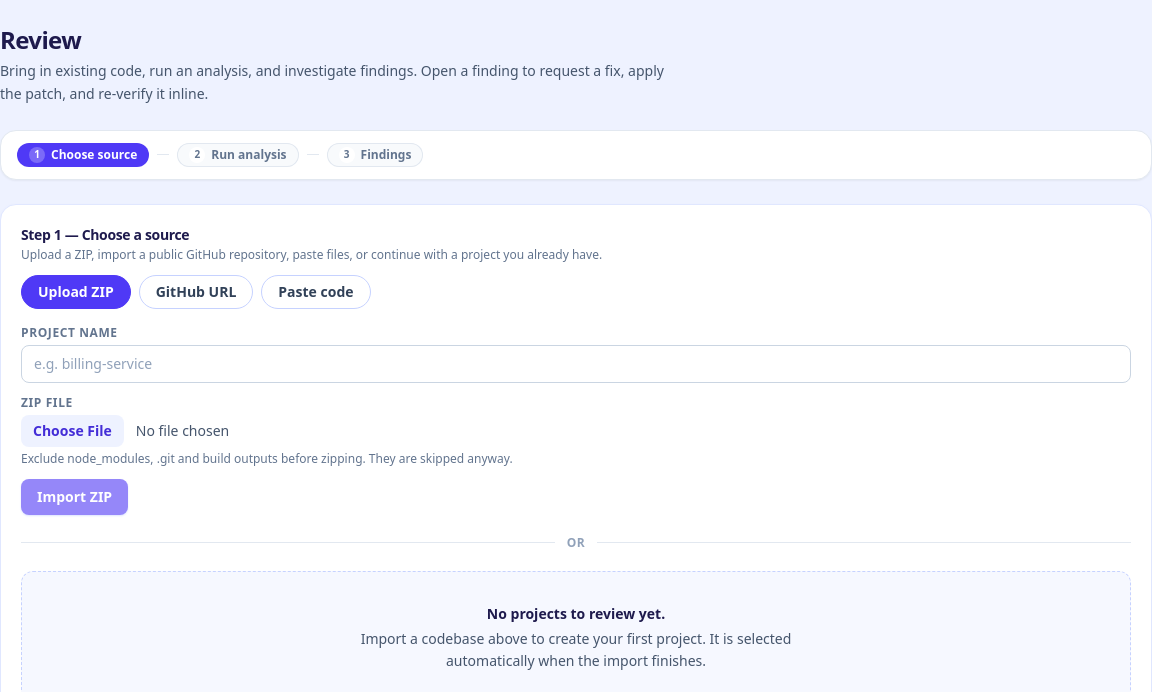
Test: ReviewPage › imports a GitHub project and moves straight to the analysis step
expect the text "No projects to review yet." is shown: met, box 487,604 -> 665,622
Click the tab "GitHub URL": (196, 292) 139,274 -> 253,308
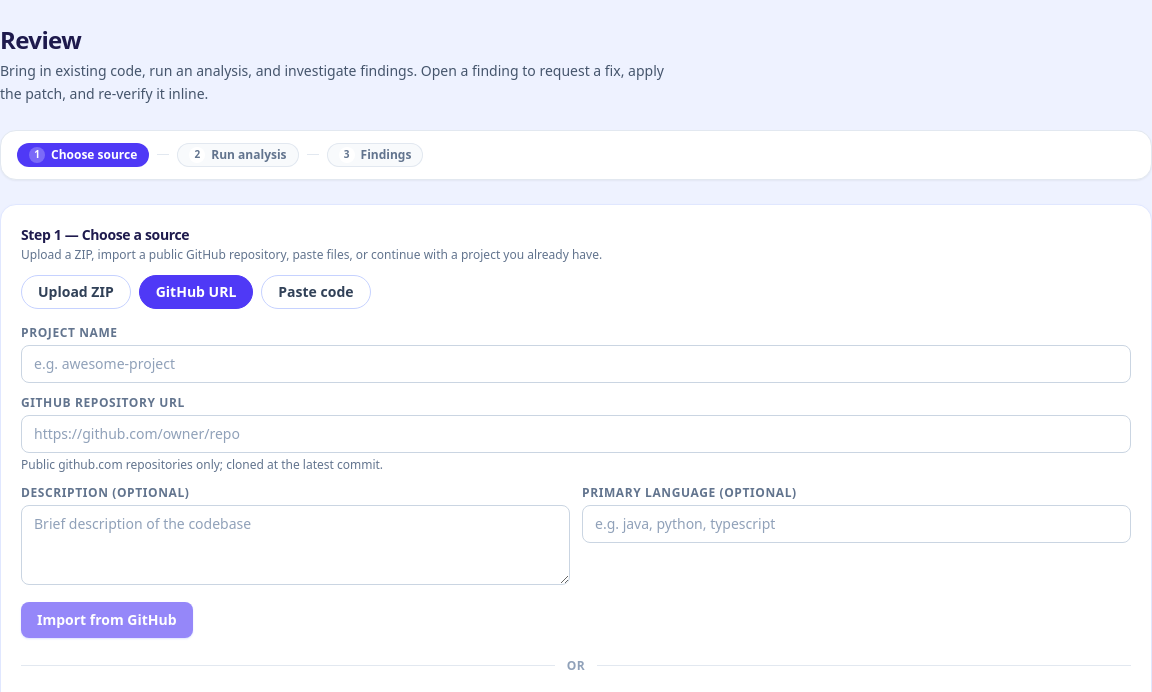
In the field named "GitHub project name": (576, 364) 21,344 -> 1131,382, type "imported"
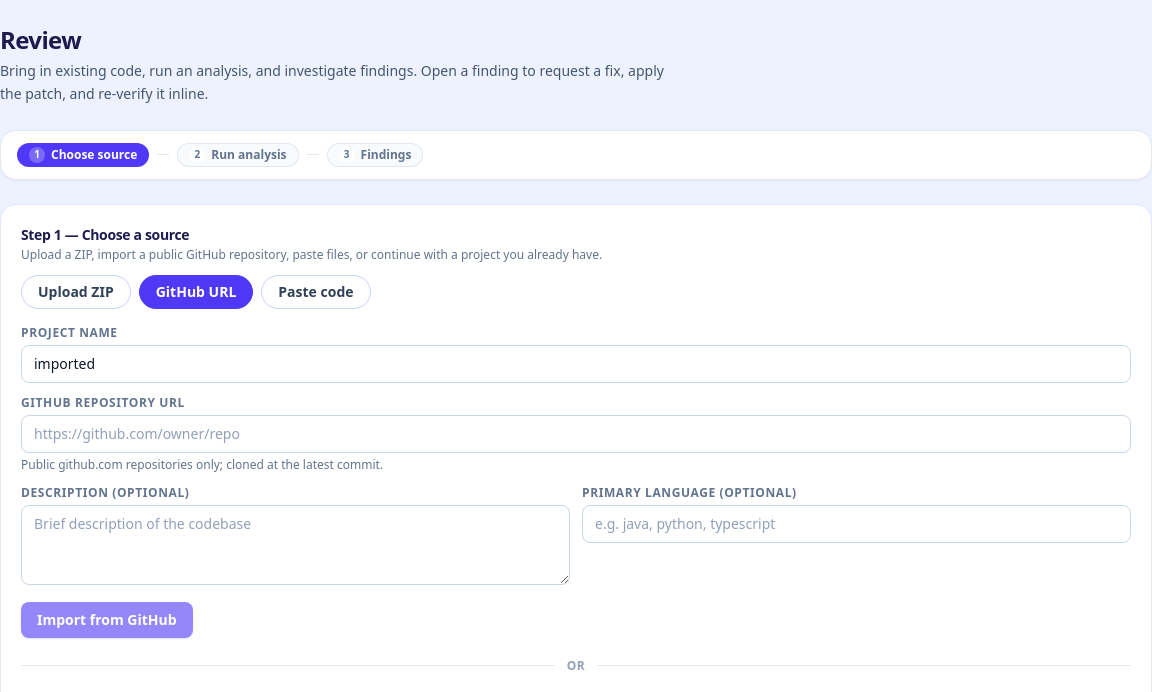
In the field named "GitHub URL": (576, 434) 21,414 -> 1131,452, type "https://github.com/acme/imported"
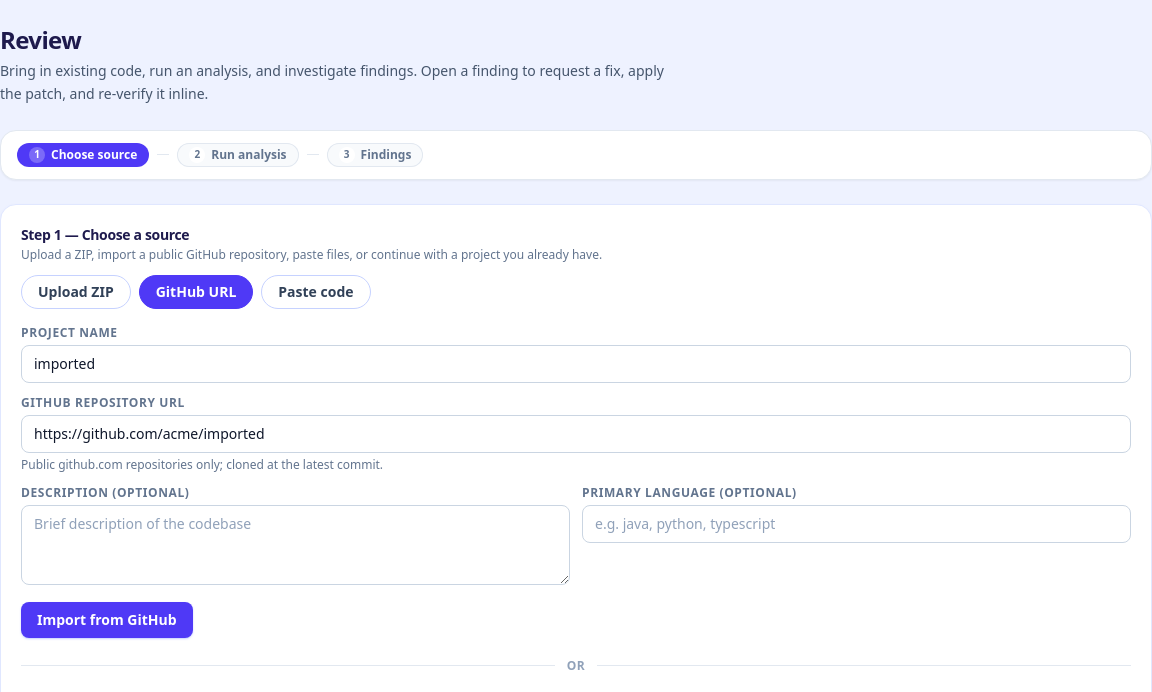
Click the button "Import from GitHub": (107, 620) 21,602 -> 193,638
(page scrolled)
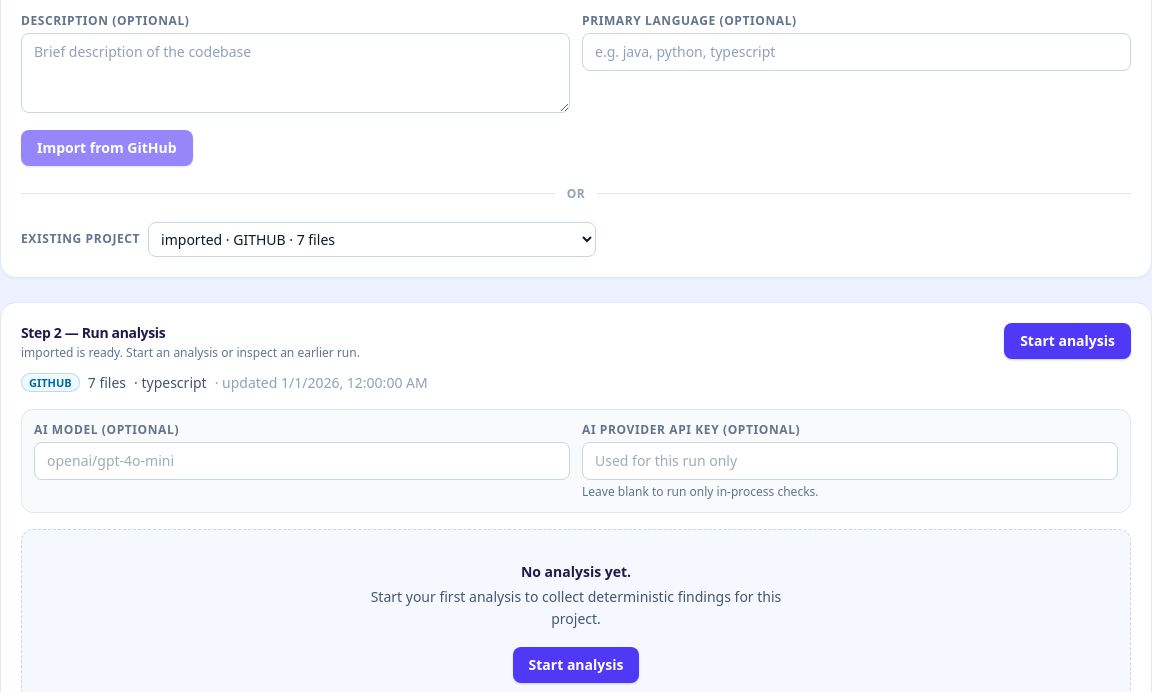
expect the heading "Step 2 — Run analysis" is shown: met, box 21,322 -> 165,342
